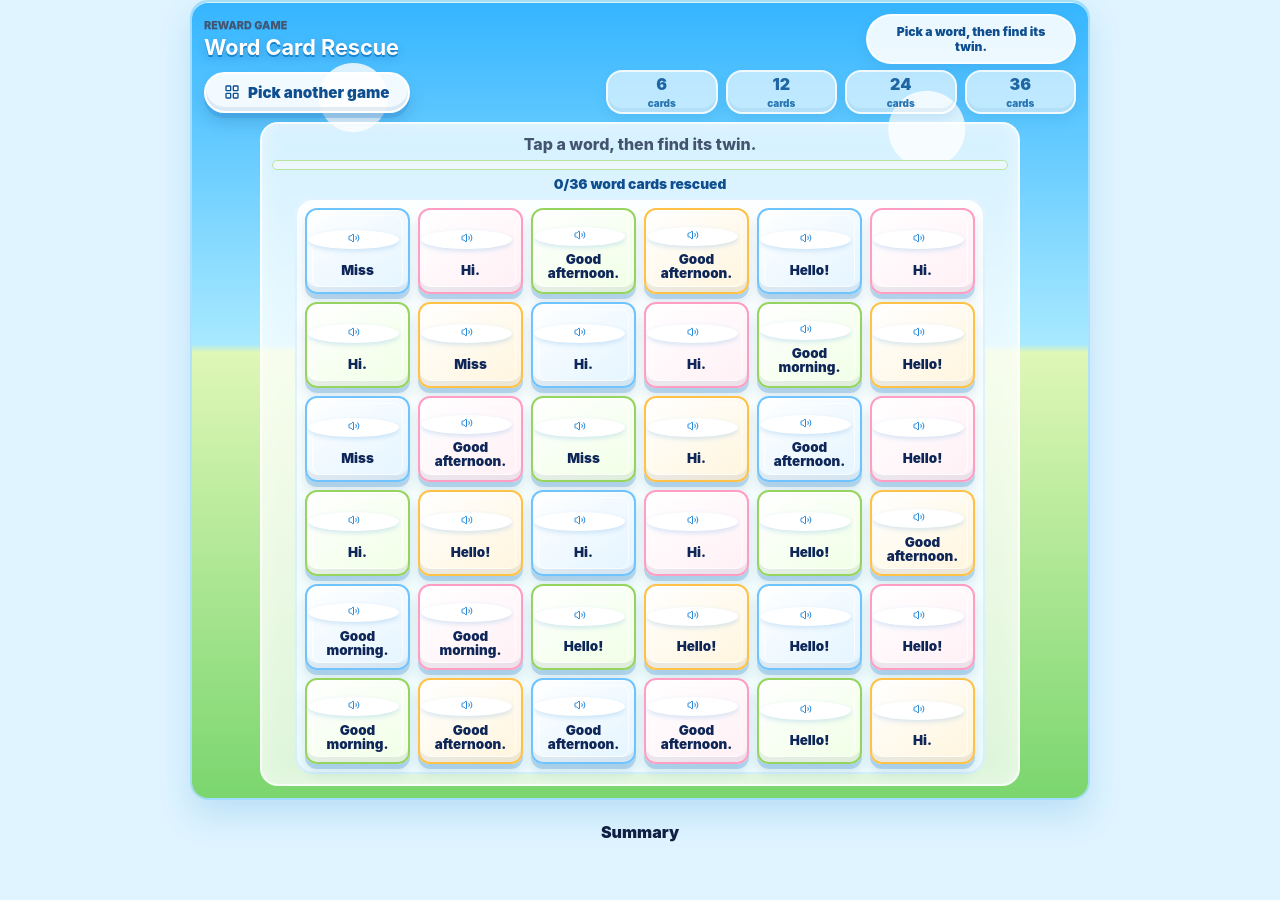
Test: reward clear game › selects one card and clears any matching word card on the second click
The image size is (1280, 900).
Click the 1st cell with class "word". click: (358, 251)
box: [305, 208, 410, 294]
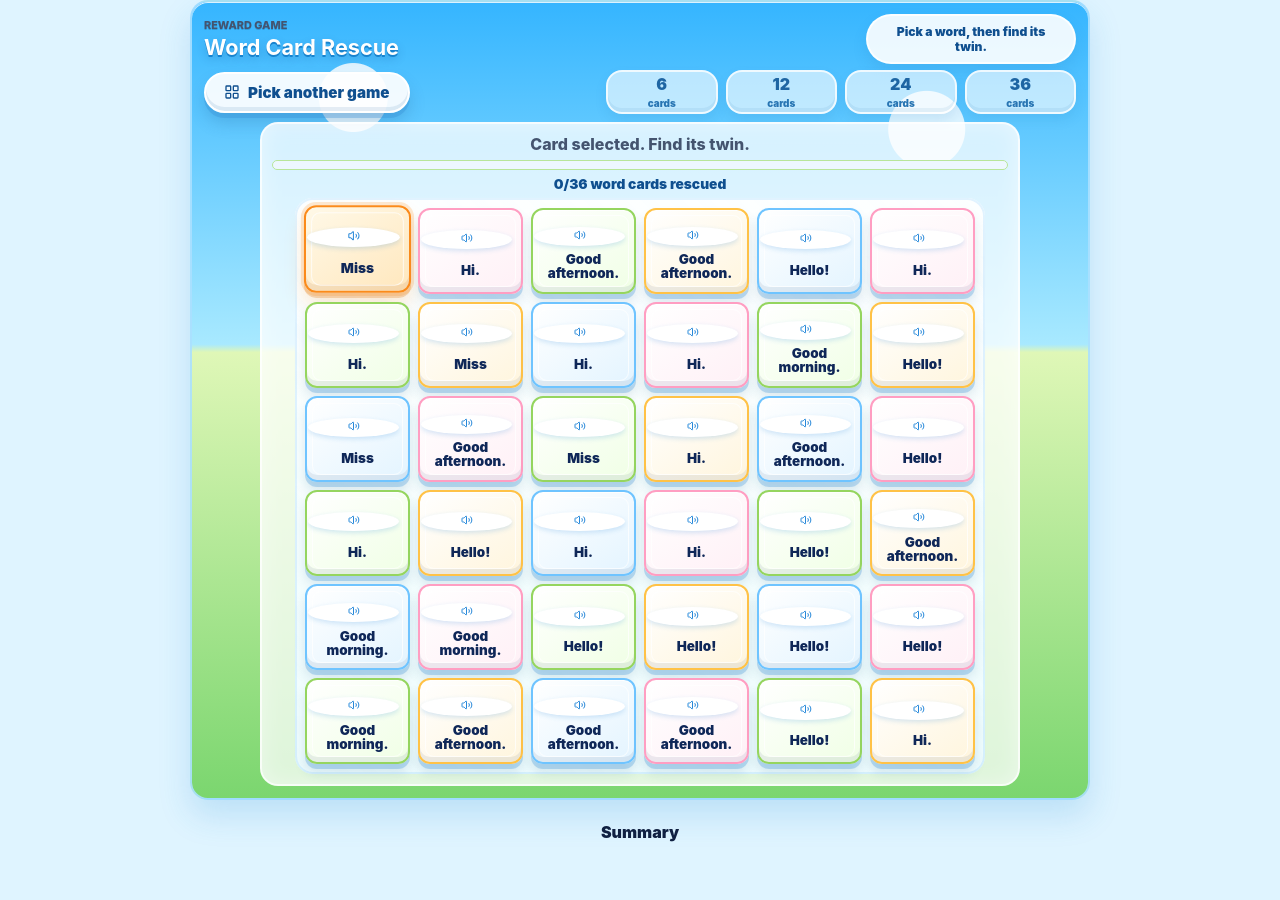
Expected: the element with class "reward-guidance" does not show "Miss"
Result: the text with class "reward-guidance" reads "Card selected. Find its twin." at [530, 134, 750, 154]
Click the 8th cell with class "word". click: (470, 345)
box: [418, 302, 523, 388]
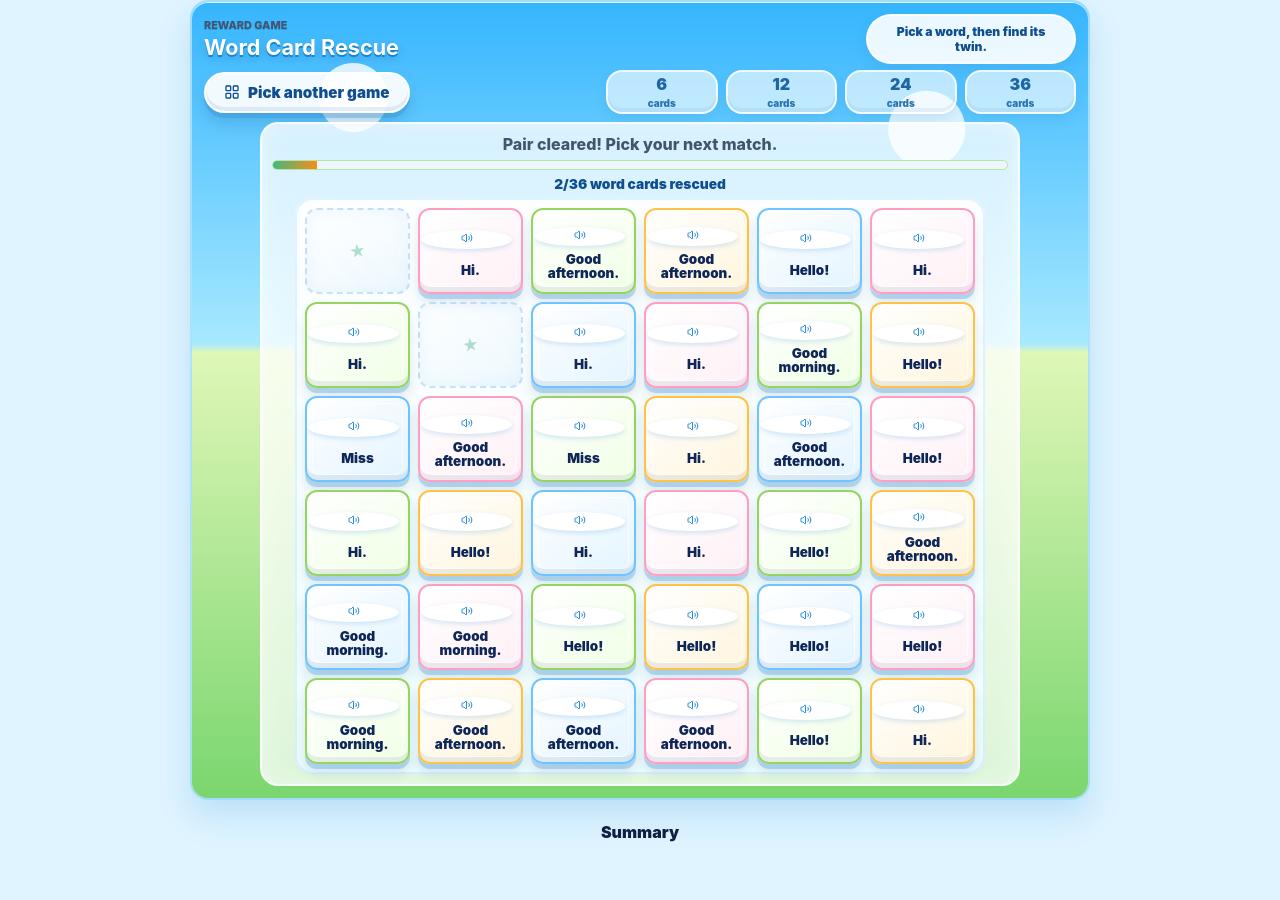
Result: the text with class "rescue-meter-copy" shows "2/" at [554, 176, 726, 192]
Result: the cell with class "selected" is gone
